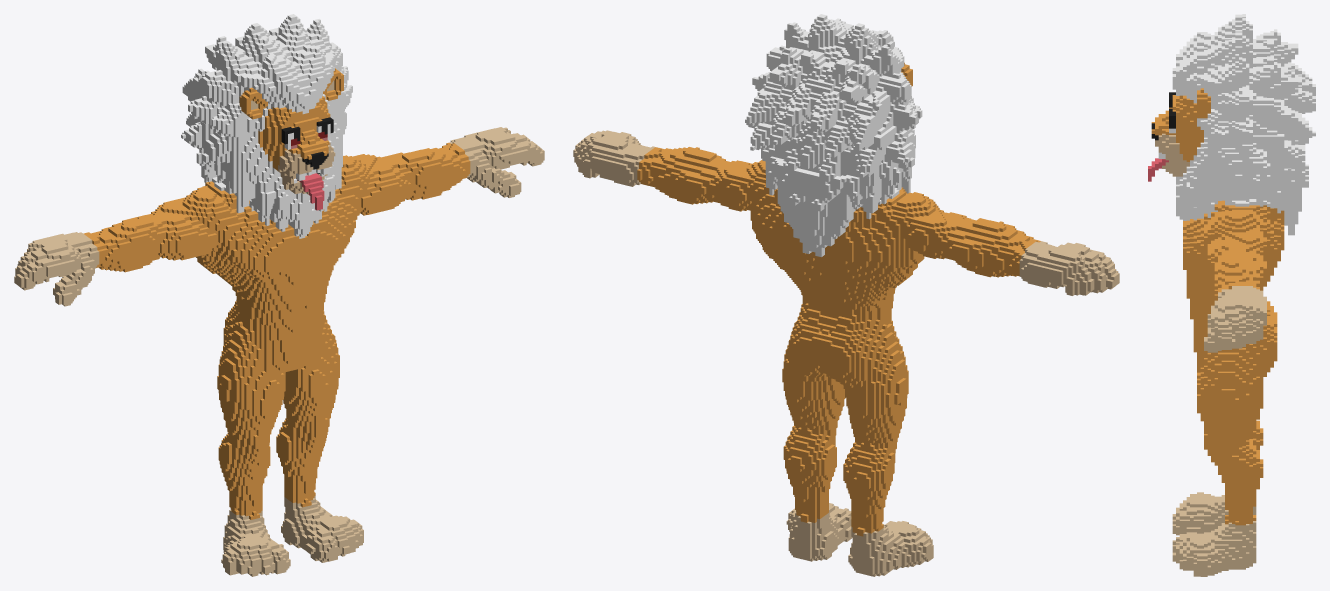
The model's file is 960-BUerNMk2.glb.
3 renders of one model, left to right at view 1: azimuth 30°, elevation 25°; view 2: azimuth 150°, elevation 25°; view 3: azimuth 270°, elevation 25°, orthographic. The views are drawn at different scales.
Visible parts, largest first — view 1: tongue_out; view 2: tongue_out; view 3: tongue_out.
Boxes of the visible parts, x1,y1,x2,y2 form: tongue_out: [14, 14, 544, 576]; tongue_out: [573, 14, 1119, 576]; tongue_out: [1148, 14, 1315, 576].
Bounding box in the file's own units: 17.2 × 16.5 × 4.8.
4 materials, 4 textured.
